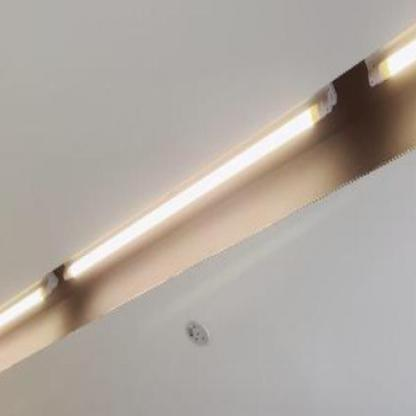light_on: (63, 77, 344, 294), (0, 249, 56, 391), (364, 0, 415, 107)
